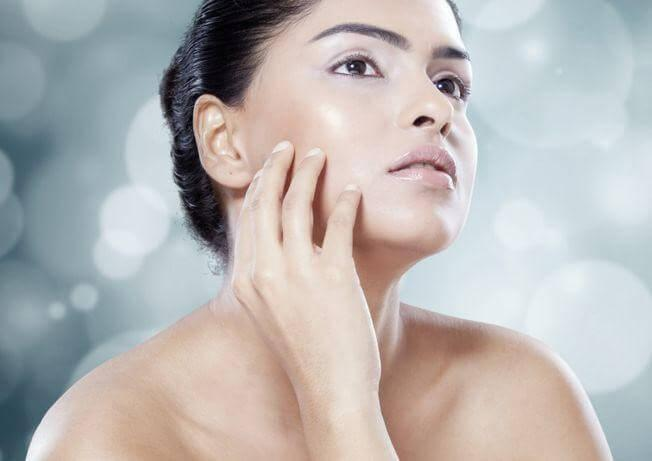Oily-Skin: (282, 94, 392, 155)
